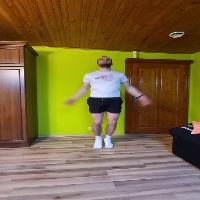jumping_jacks: (61, 47, 155, 155)
